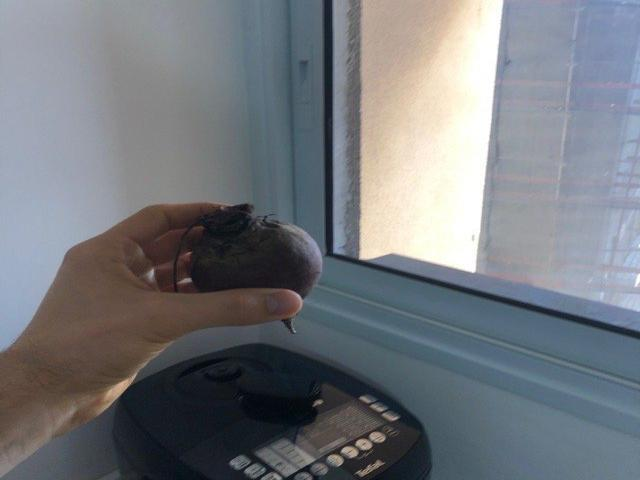beet: (175, 203, 322, 333)
